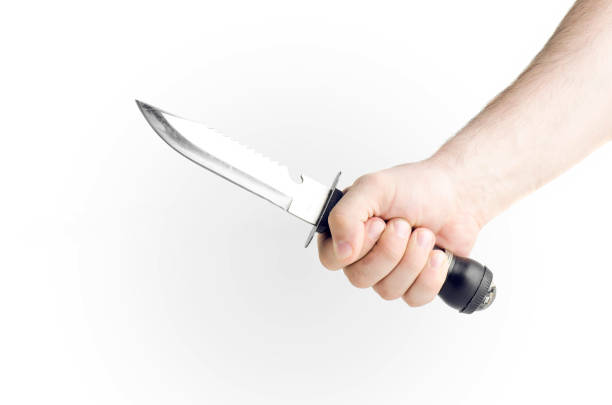knife: (133, 96, 499, 316)
